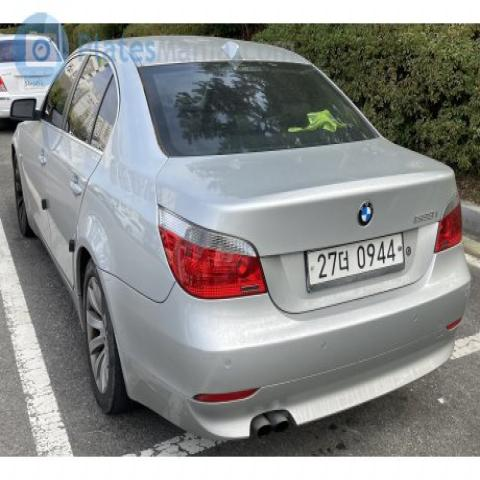LP: (299, 222, 411, 295)
